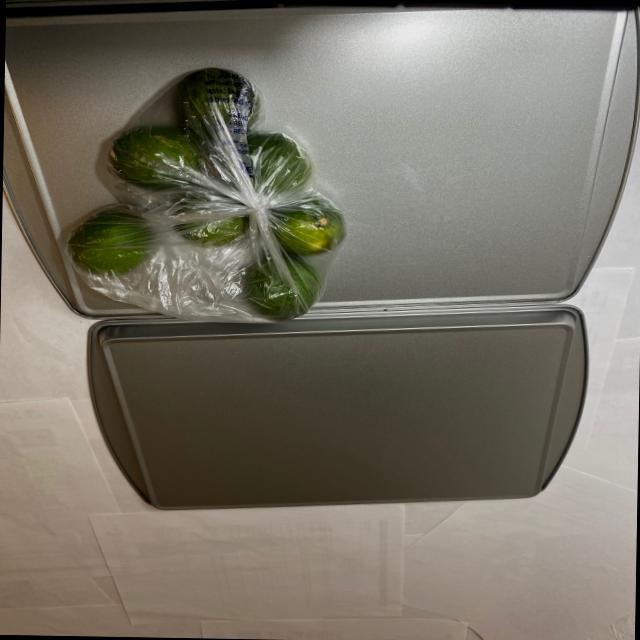lemon: (65, 72, 352, 324)
